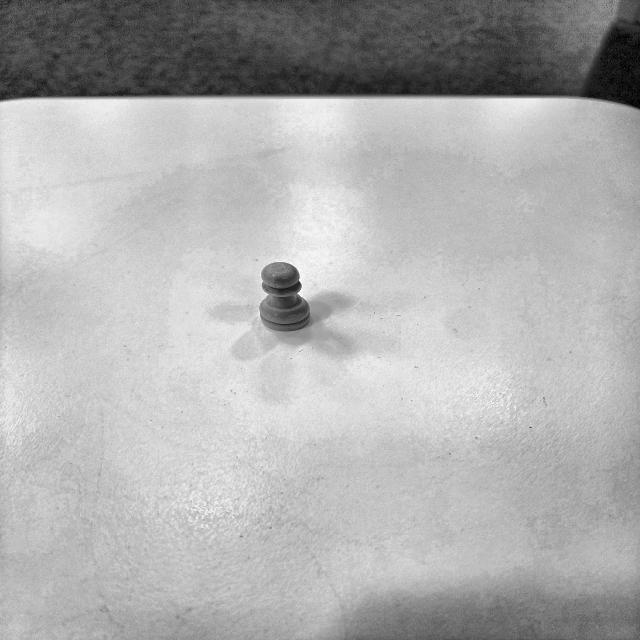white-pawn: (259, 262, 311, 330)
